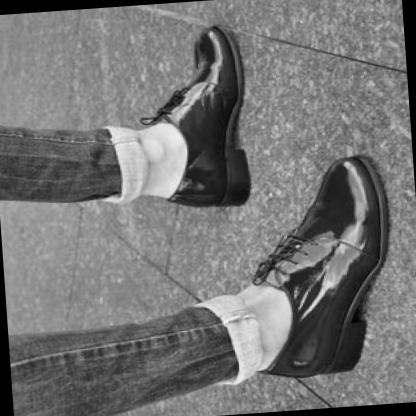ankle: (289, 335, 293, 339), (188, 150, 191, 152)
heel: (321, 368, 325, 372), (215, 202, 218, 204)
left_foot: (147, 26, 251, 212)
pinky: (369, 206, 374, 212), (198, 47, 201, 49)
right_foot: (246, 154, 400, 381)
toe: (328, 173, 333, 178), (220, 37, 223, 39)
